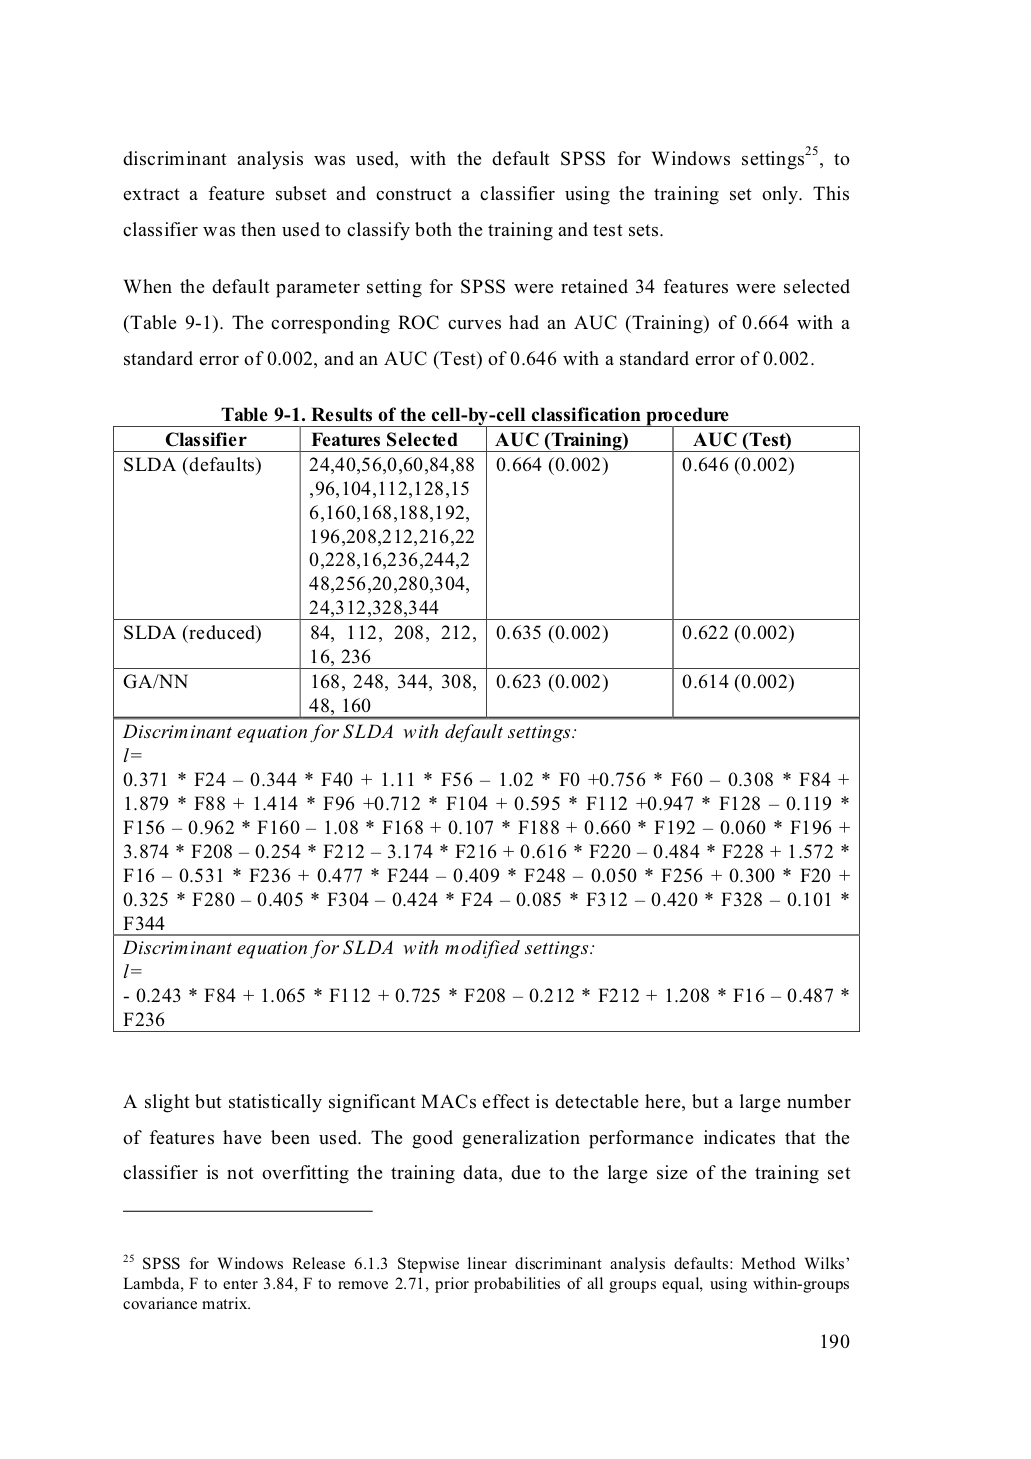Table: (113, 422, 859, 1031)
figure: (123, 1208, 372, 1212)
